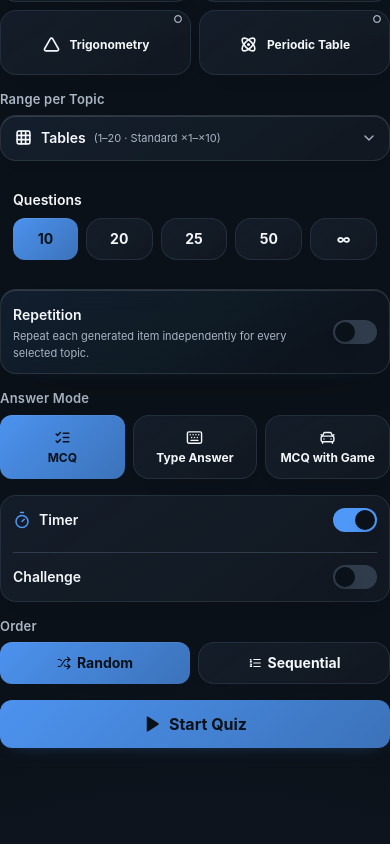
Quiz Arena MCQ with Game mode › launches Space Shooter through the same explicit selected-game flow
(page scrolled)
Click the button "MCQ with Game": (328, 447) [265,415,389,479]
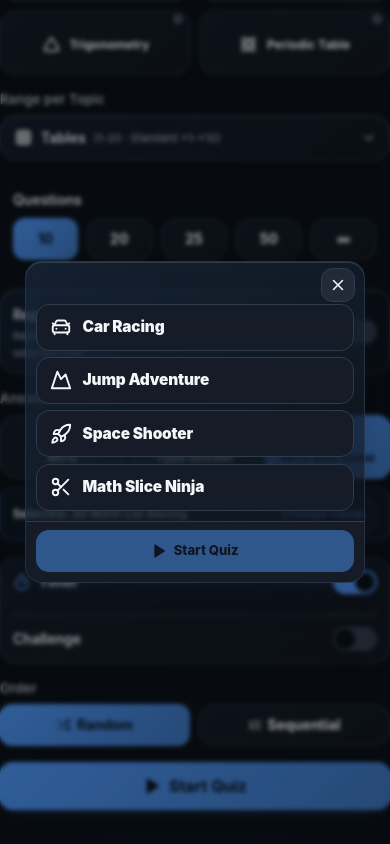
Result: the element with test id "mcq-game-selector" is shown
Result: the dialog named "Choose Your Game" is shown at [25,261,365,583]
Click the button "Space Shooter": (195, 434) [36,410,354,457]
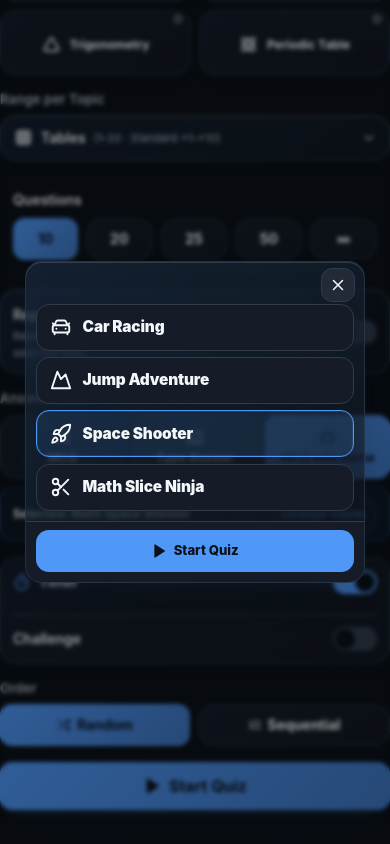
Result: the button with test id "start-selected-game" is enabled
Click the button with test id "start-selected-game": (195, 551) [36,530,354,572]
(page scrolled)
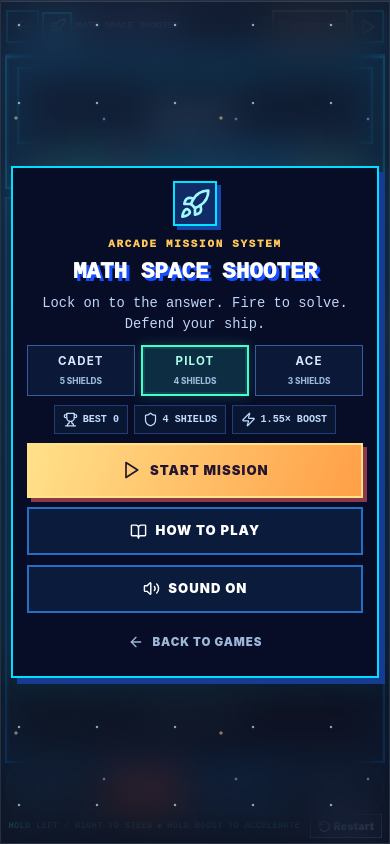
Result: the element with test id "mcq-game-selector" is gone
Result: the element with class "mcq-space-shell" is shown
